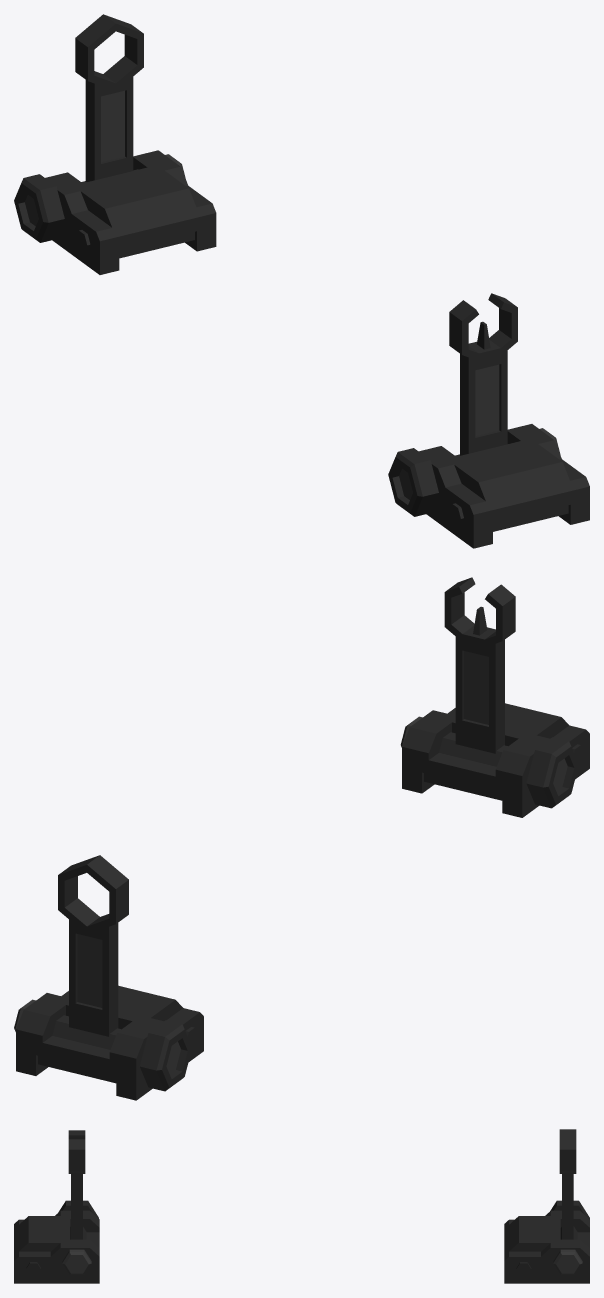
The model's file is Optic_G.fbx.
3 renders of one model, top to bottom at view 1: azimuth 30°, elevation 25°; view 2: azimuth 150°, elevation 25°; view 3: azimuth 270°, elevation 25°, orthographic. The views are drawn at different scales.
Visible parts, largest first — view 1: Optic_G_Sight_Back, Optic_G_Sight_Forward, Optic_G_Sight_Back_Part, Optic_G_Sight_Forward_Part; view 2: Optic_G_Sight_Forward, Optic_G_Sight_Back, Optic_G_Sight_Back_Part, Optic_G_Sight_Forward_Part; view 3: Optic_G_Sight_Back, Optic_G_Sight_Forward, Optic_G_Sight_Back_Part, Optic_G_Sight_Forward_Part.
Part boxes in pixels (bbox=[...]): Optic_G_Sight_Back: bbox=[14, 150, 216, 274]; Optic_G_Sight_Forward: bbox=[388, 424, 589, 548]; Optic_G_Sight_Back_Part: bbox=[75, 14, 143, 181]; Optic_G_Sight_Forward_Part: bbox=[449, 293, 517, 455]; Optic_G_Sight_Forward: bbox=[400, 703, 589, 817]; Optic_G_Sight_Back: bbox=[14, 985, 203, 1100]; Optic_G_Sight_Back_Part: bbox=[58, 855, 128, 1036]; Optic_G_Sight_Forward_Part: bbox=[444, 577, 515, 753]; Optic_G_Sight_Back: bbox=[504, 1200, 589, 1283]; Optic_G_Sight_Forward: bbox=[14, 1200, 99, 1283]; Optic_G_Sight_Back_Part: bbox=[559, 1129, 576, 1239]; Optic_G_Sight_Forward_Part: bbox=[68, 1130, 85, 1239].
Size of the model in its own units: 0.0575 by 0.0762 by 0.2938.
